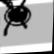not correct: (0, 0, 36, 36)
